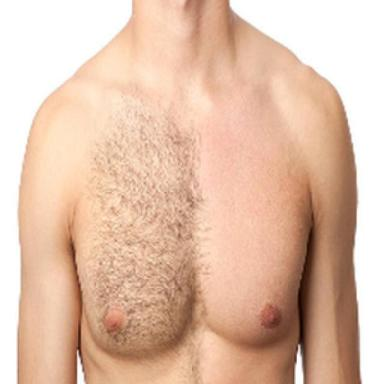normal skin: (19, 0, 359, 384)
